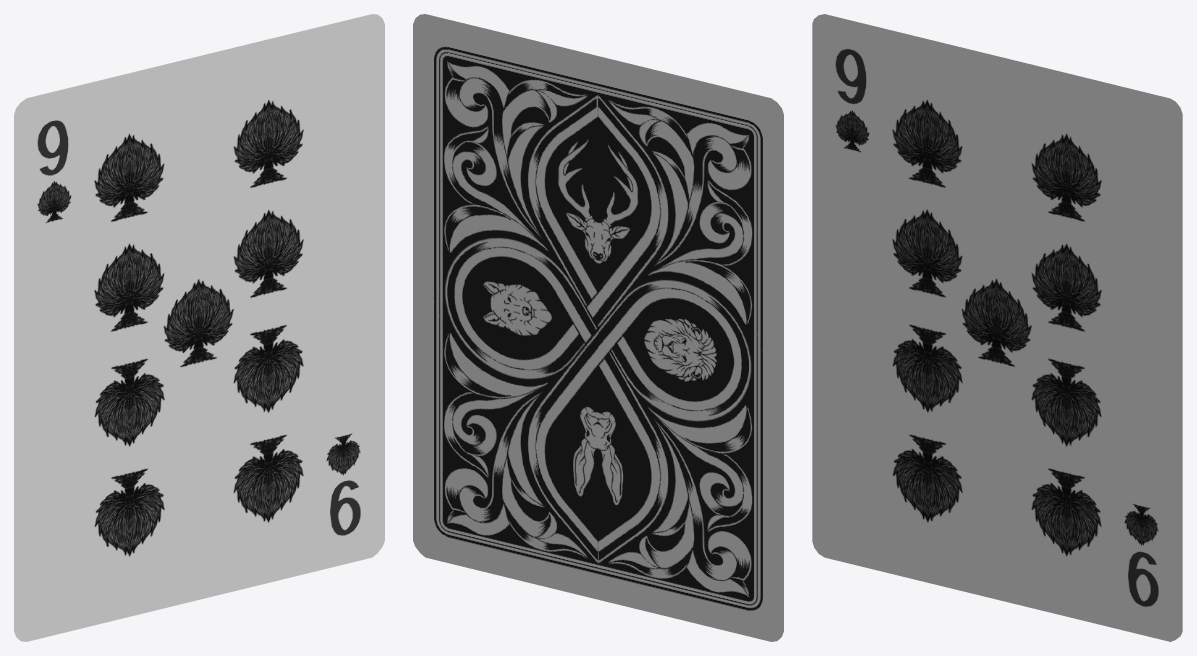
3 views of the same model, side by side, from view 1: azimuth 30°, elevation 25°; view 2: azimuth 150°, elevation 25°; view 3: azimuth 330°, elevation 25° (orthographic).
Parts seen in each view (by area): view 1: Node; view 2: Node; view 3: Node.
Part boxes in pixels (x1=…): Node: x1=14, y1=14, x2=384, y2=641; Node: x1=413, y1=14, x2=783, y2=641; Node: x1=812, y1=14, x2=1182, y2=641.
Bounding box in the file's own units: 1.5 × 2.1 × 7.08e-05.
Materials: 1 (1 with a texture image).
